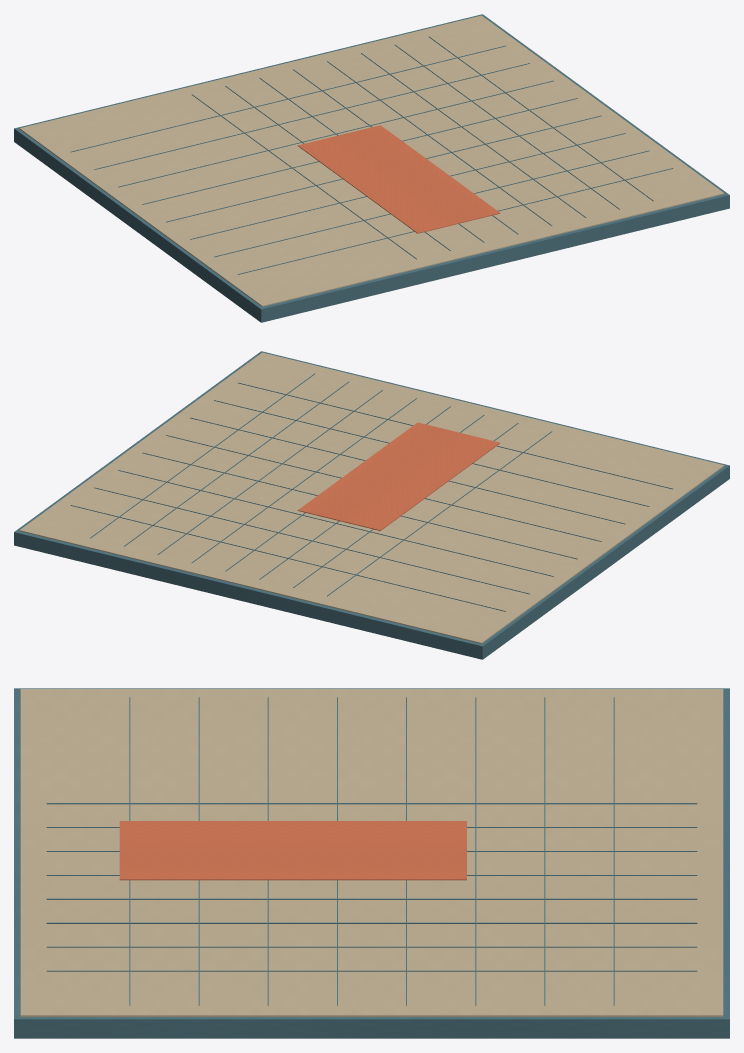
The model's file is atlas100-s043-a07.lod1.glb.
3 views of the same model, one above another, from view 1: azimuth 30°, elevation 25°; view 2: azimuth 150°, elevation 25°; view 3: azimuth 270°, elevation 25° (orthographic). The views are drawn at different scales.
Parts seen in each view (by area): view 1: atlas100-s043-a07:part-001, atlas100-s043-a07:part-000, atlas100-s043-a07:part-021, atlas100-s043-a07:part-015, atlas100-s043-a07:part-013, atlas100-s043-a07:part-014, atlas100-s043-a07:part-017, atlas100-s043-a07:part-019, atlas100-s043-a07:part-016, atlas100-s043-a07:part-018, atlas100-s043-a07:part-020; view 2: atlas100-s043-a07:part-001, atlas100-s043-a07:part-000, atlas100-s043-a07:part-021, atlas100-s043-a07:part-013, atlas100-s043-a07:part-015, atlas100-s043-a07:part-014, atlas100-s043-a07:part-016, atlas100-s043-a07:part-018, atlas100-s043-a07:part-017, atlas100-s043-a07:part-019, atlas100-s043-a07:part-020; view 3: atlas100-s043-a07:part-001, atlas100-s043-a07:part-000, atlas100-s043-a07:part-021, atlas100-s043-a07:part-009, atlas100-s043-a07:part-011, atlas100-s043-a07:part-012, atlas100-s043-a07:part-005, atlas100-s043-a07:part-010, atlas100-s043-a07:part-015, atlas100-s043-a07:part-013, atlas100-s043-a07:part-014.
Part boxes in pixels (bbox=[...]): atlas100-s043-a07:part-001: bbox=[19, 15, 724, 306]; atlas100-s043-a07:part-000: bbox=[14, 14, 729, 322]; atlas100-s043-a07:part-021: bbox=[297, 125, 500, 233]; atlas100-s043-a07:part-015: bbox=[118, 80, 553, 187]; atlas100-s043-a07:part-013: bbox=[71, 45, 505, 152]; atlas100-s043-a07:part-014: bbox=[94, 63, 529, 169]; atlas100-s043-a07:part-017: bbox=[166, 115, 601, 222]; atlas100-s043-a07:part-019: bbox=[214, 150, 649, 257]; atlas100-s043-a07:part-016: bbox=[142, 98, 577, 204]; atlas100-s043-a07:part-018: bbox=[190, 133, 625, 239]; atlas100-s043-a07:part-020: bbox=[238, 168, 673, 274]; atlas100-s043-a07:part-001: bbox=[19, 352, 724, 643]; atlas100-s043-a07:part-000: bbox=[14, 351, 729, 659]; atlas100-s043-a07:part-021: bbox=[297, 422, 500, 530]; atlas100-s043-a07:part-013: bbox=[70, 505, 505, 611]; atlas100-s043-a07:part-015: bbox=[118, 470, 553, 576]; atlas100-s043-a07:part-014: bbox=[94, 487, 529, 594]; atlas100-s043-a07:part-016: bbox=[142, 452, 577, 559]; atlas100-s043-a07:part-018: bbox=[190, 417, 625, 524]; atlas100-s043-a07:part-017: bbox=[166, 435, 601, 541]; atlas100-s043-a07:part-019: bbox=[214, 400, 649, 506]; atlas100-s043-a07:part-020: bbox=[238, 382, 672, 489]; atlas100-s043-a07:part-001: bbox=[20, 689, 723, 1016]; atlas100-s043-a07:part-000: bbox=[14, 688, 729, 1038]; atlas100-s043-a07:part-021: bbox=[119, 821, 466, 880]; atlas100-s043-a07:part-009: bbox=[46, 898, 697, 899]; atlas100-s043-a07:part-011: bbox=[46, 946, 697, 947]; atlas100-s043-a07:part-012: bbox=[46, 970, 697, 971]; atlas100-s043-a07:part-005: bbox=[46, 803, 697, 804]; atlas100-s043-a07:part-010: bbox=[46, 922, 697, 923]; atlas100-s043-a07:part-015: bbox=[475, 697, 476, 1005]; atlas100-s043-a07:part-013: bbox=[613, 697, 614, 1005]; atlas100-s043-a07:part-014: bbox=[544, 697, 545, 1005].
Bounding box in the file's own units: 12.46 × 0.404 × 11.39.
Materials: 3 (3 with a texture image).
